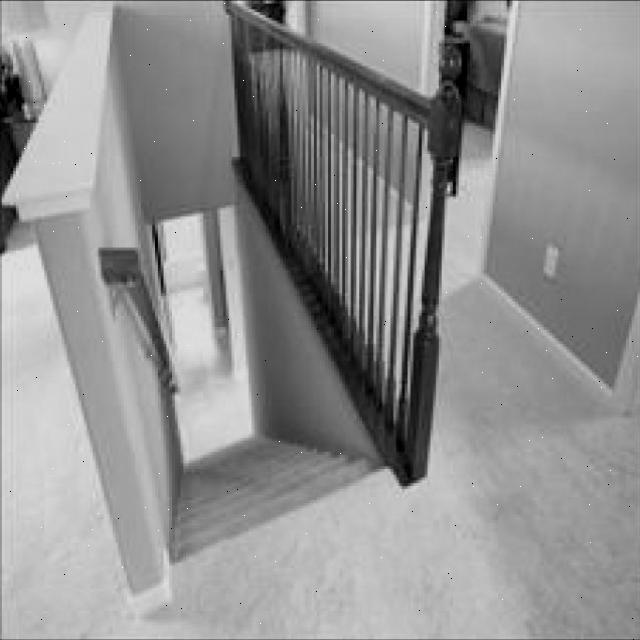stair: (149, 364, 393, 569)
